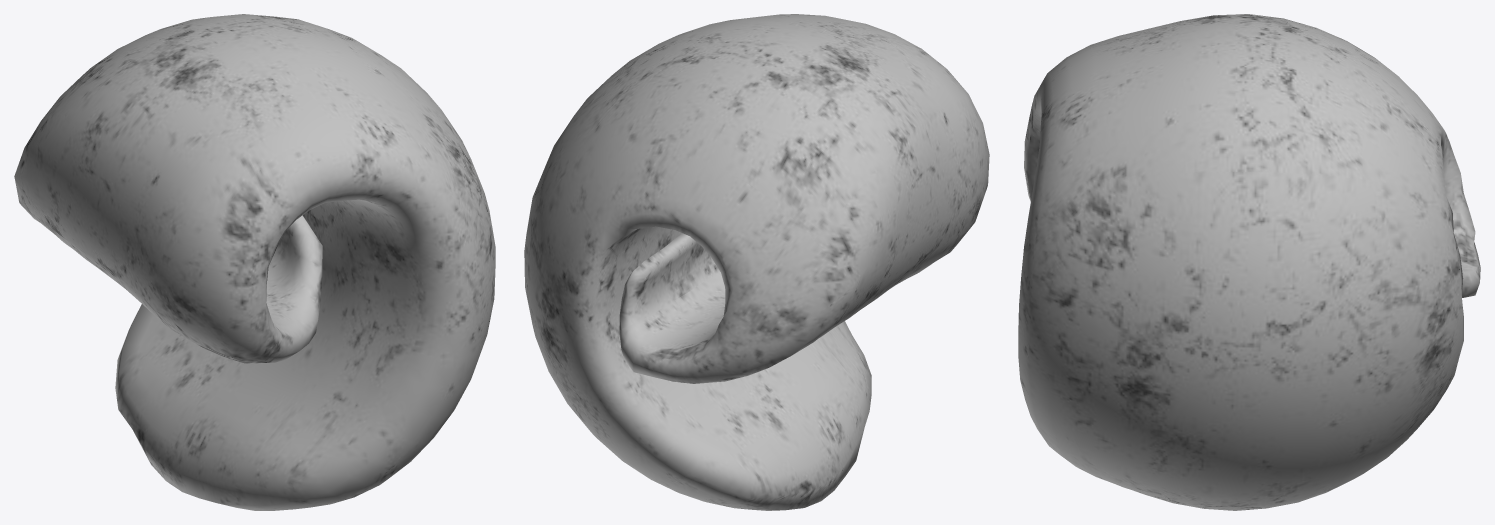
The model's file is Tentacle_Low.fbx.
The picture shows the model from 3 angles, left to right: view 1: azimuth 30°, elevation 25°; view 2: azimuth 150°, elevation 25°; view 3: azimuth 270°, elevation 25°; orthographic projection.
Parts seen in each view (by area): view 1: Quad Sphere; view 2: Quad Sphere; view 3: Quad Sphere.
Boxes of the visible parts, <box> form: Quad Sphere: <box>14,14,495,510</box>; Quad Sphere: <box>524,14,989,510</box>; Quad Sphere: <box>1018,14,1480,510</box>.
Size of the model in its own units: 87.36 by 101 by 93.82.
Materials: 1 (1 with a texture image).
